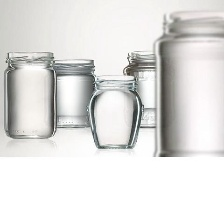bottle: (149, 5, 224, 156), (1, 49, 57, 142), (85, 71, 146, 152), (120, 46, 169, 130), (51, 55, 100, 128)
